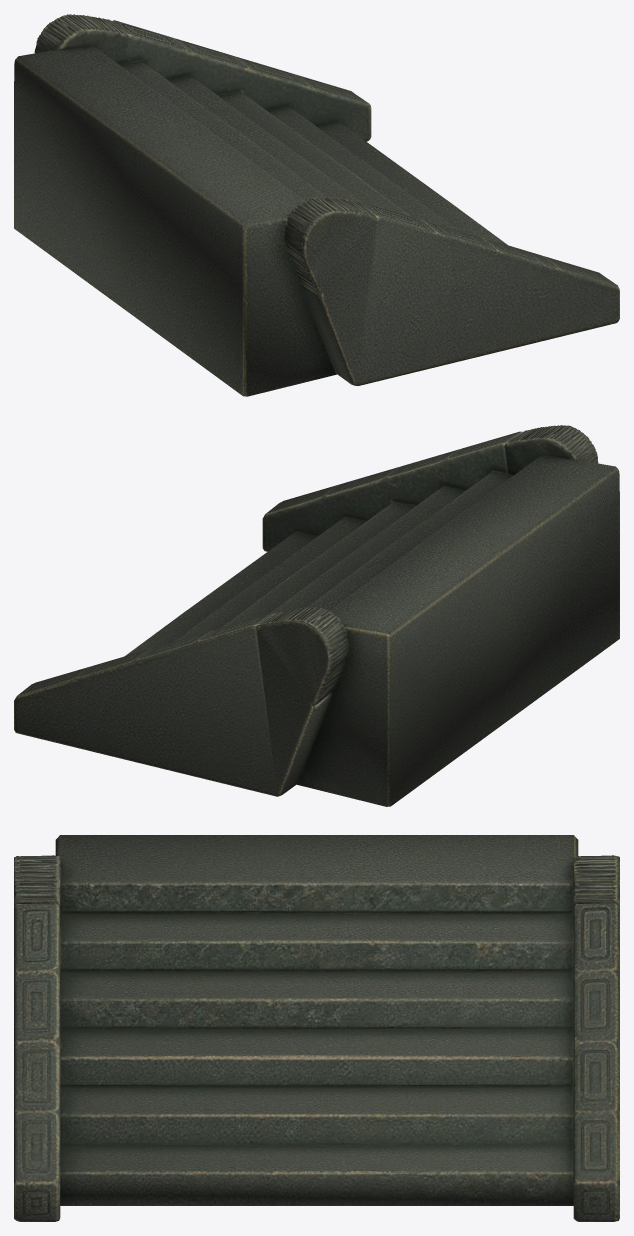
Rendered from stone-stair-a.glb.
3 views of the same model, one above another, from view 1: azimuth 30°, elevation 25°; view 2: azimuth 150°, elevation 25°; view 3: azimuth 270°, elevation 25° (orthographic). The views are drawn at different scales.
Parts seen in each view (by area): view 1: tripo_node_db92ee31-f041-4f41-ba3a-5d24420388f0; view 2: tripo_node_db92ee31-f041-4f41-ba3a-5d24420388f0; view 3: tripo_node_db92ee31-f041-4f41-ba3a-5d24420388f0.
Boxes of the visible parts, x1,y1,x2,y2 form: tripo_node_db92ee31-f041-4f41-ba3a-5d24420388f0: (14, 14, 619, 396); tripo_node_db92ee31-f041-4f41-ba3a-5d24420388f0: (14, 425, 619, 806); tripo_node_db92ee31-f041-4f41-ba3a-5d24420388f0: (14, 835, 619, 1221).
Bounding box in the file's own units: 0.7676 × 0.373 × 0.998.
Materials: 1 (1 with a texture image).
